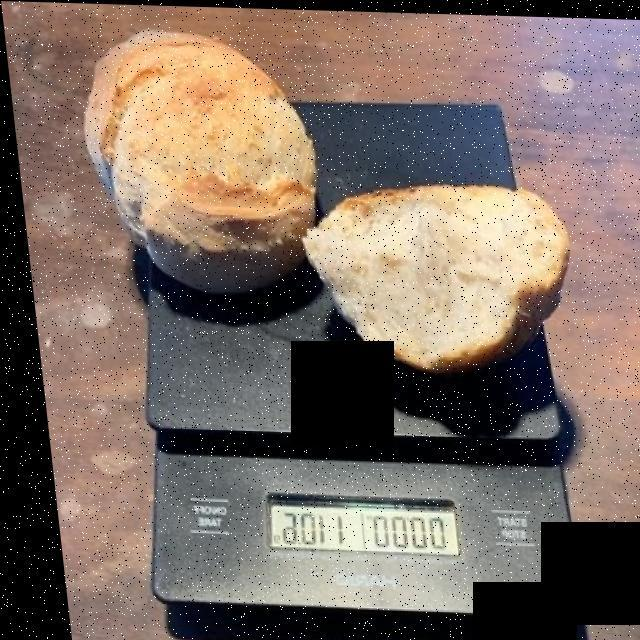bread: (87, 37, 558, 385)
